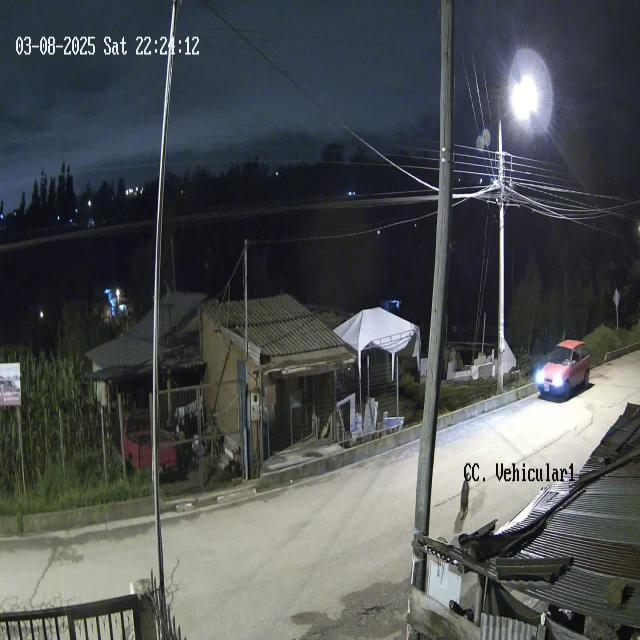SED: (537, 339, 591, 400)
